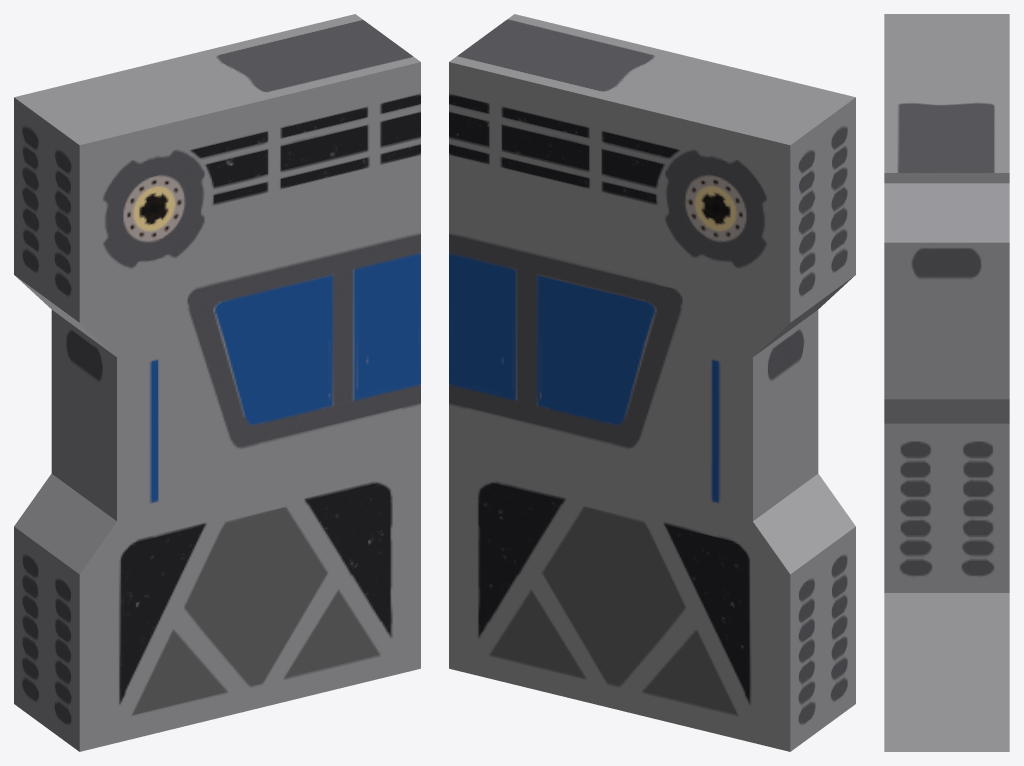
Rendered from PortaoA_3.fbx.
3 views of the same model, side by side, from view 1: azimuth 30°, elevation 25°; view 2: azimuth 150°, elevation 25°; view 3: azimuth 270°, elevation 25° (orthographic). The views are drawn at different scales.
Visible parts, largest first — view 1: PortaoA_3; view 2: PortaoA_3; view 3: PortaoA_3.
Part boxes in pixels (x1,y1,x2,y2): PortaoA_3: (14, 14, 420, 751); PortaoA_3: (449, 14, 855, 751); PortaoA_3: (884, 14, 1009, 751).
Size of the model in its own units: 165 by 279 by 54.76.
